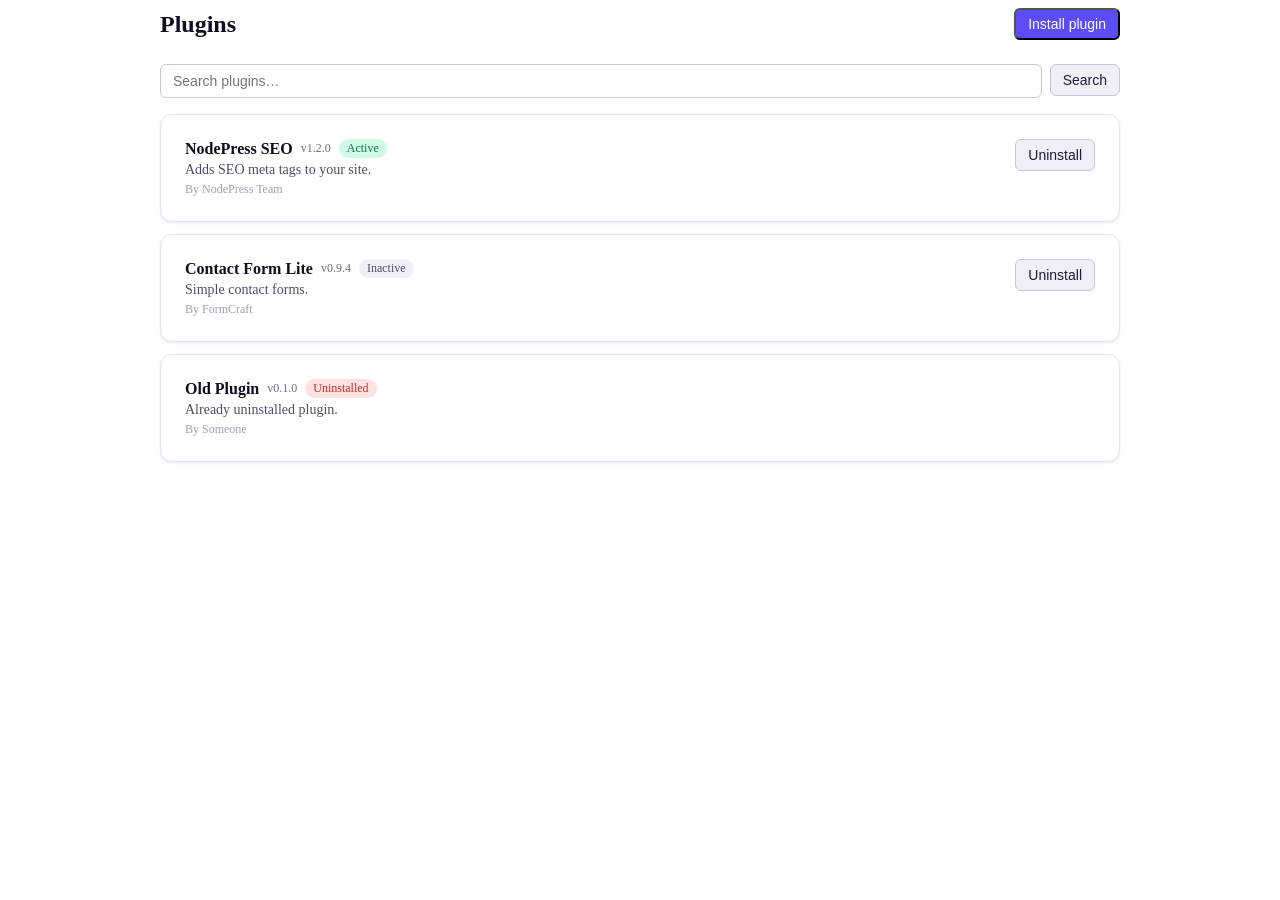
Test: PluginsPage — marketplace (Sprint 7) › install modal — submits slug and closes on success
expect the text "NodePress SEO" is shown: met, box [185,140,293,158]
// Open modal — exact name to avoid matching "Uninstall plugin ..." buttons
Click the button "Install plugin" at (1067, 24), box [1014,8,1120,40]
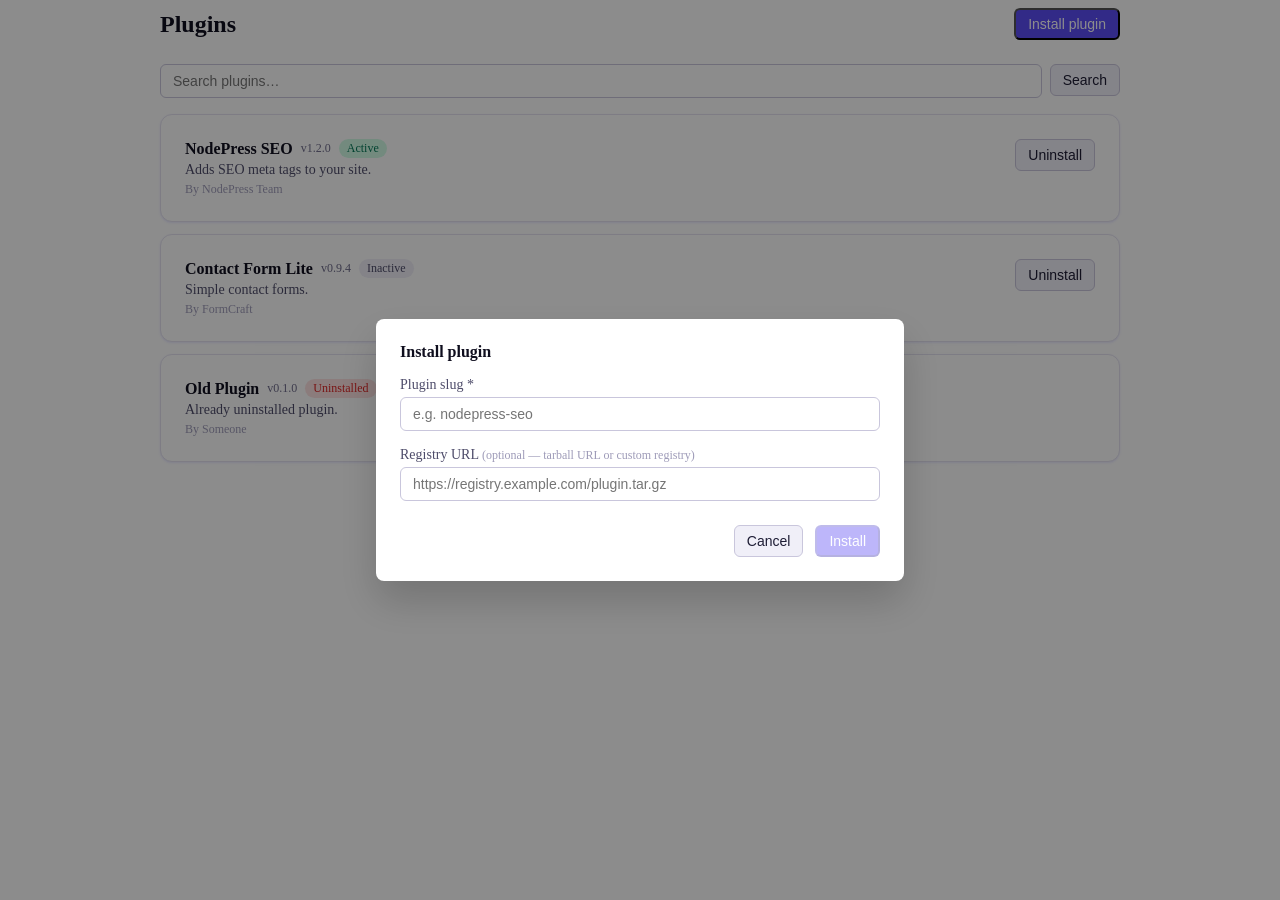
expect the dialog is shown: met
// Fill slug
Type "my-new-plugin" into the field labelled "Plugin slug *" at (640, 414), box [400,397,880,431]
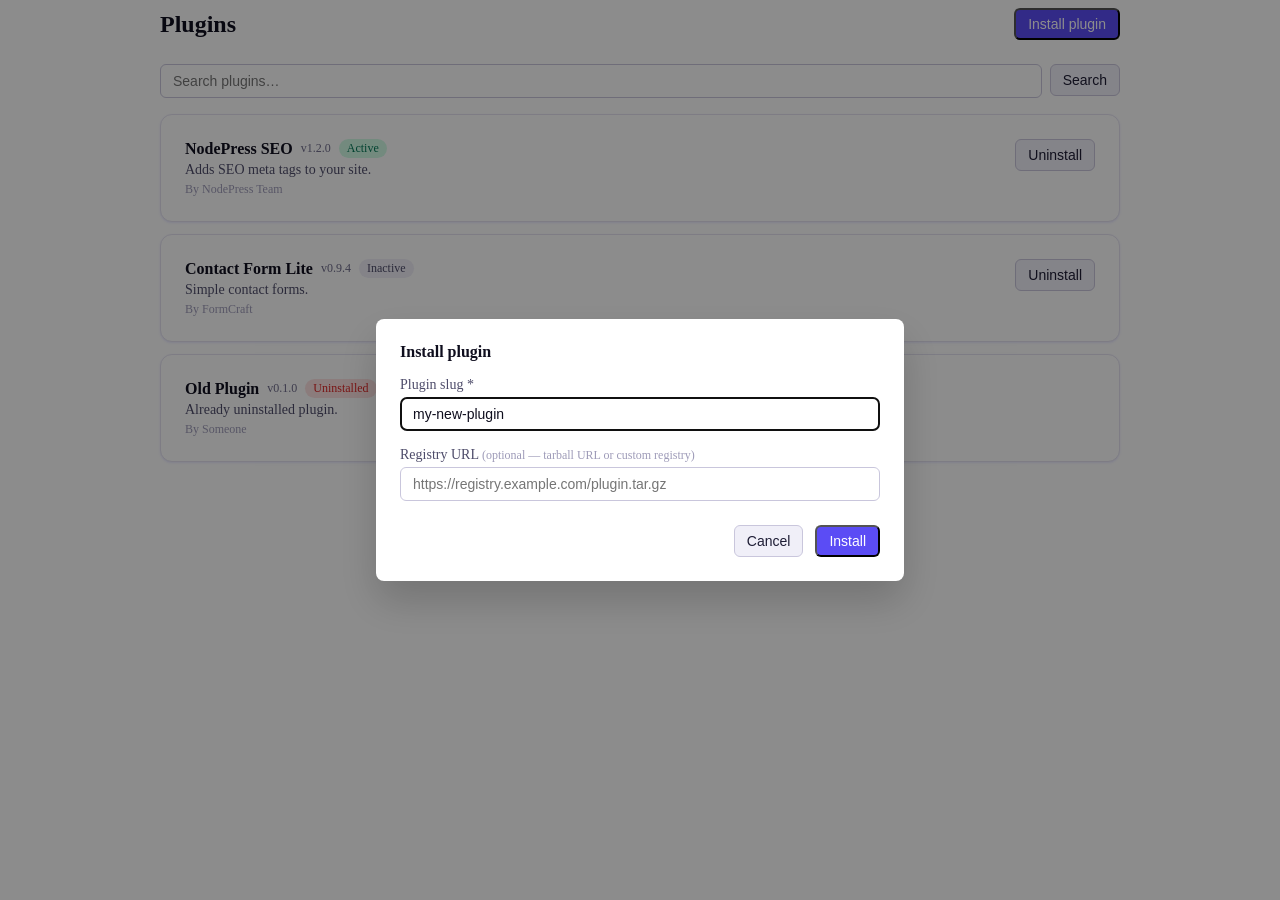
// Submit via the modal confirm button
Click the button with aria-label "confirm install" at (848, 541), box [815,525,880,557]
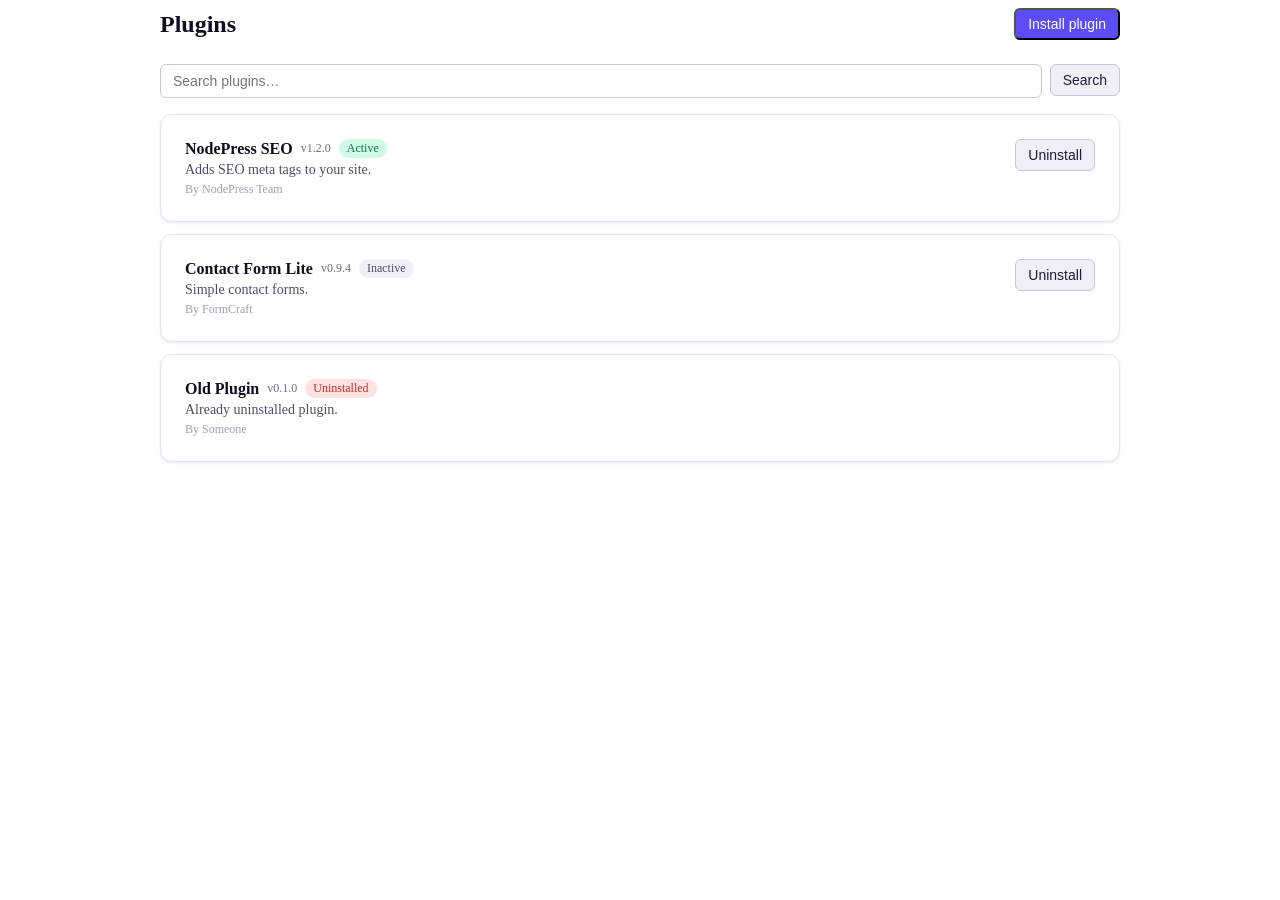
expect the dialog is gone: met
